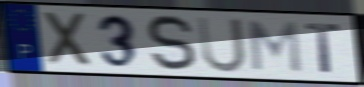3: (96, 12, 144, 71)
M: (246, 19, 304, 75)
S: (145, 13, 199, 73)
T: (303, 21, 343, 76)
U: (195, 15, 249, 75)
X: (42, 9, 96, 69)
